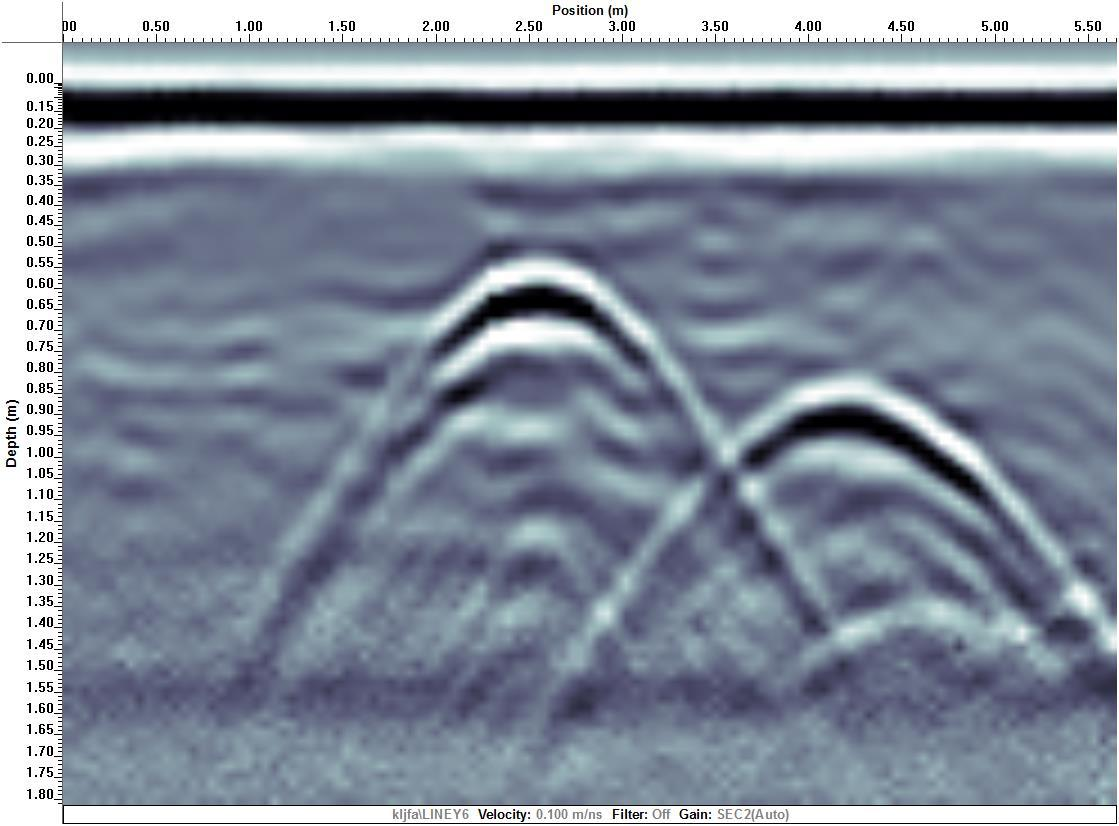hyperbola: (700, 351, 1052, 578), (386, 241, 725, 441)
